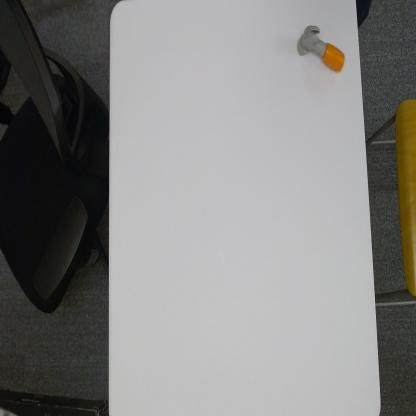Hammer: (296, 24, 346, 75)
